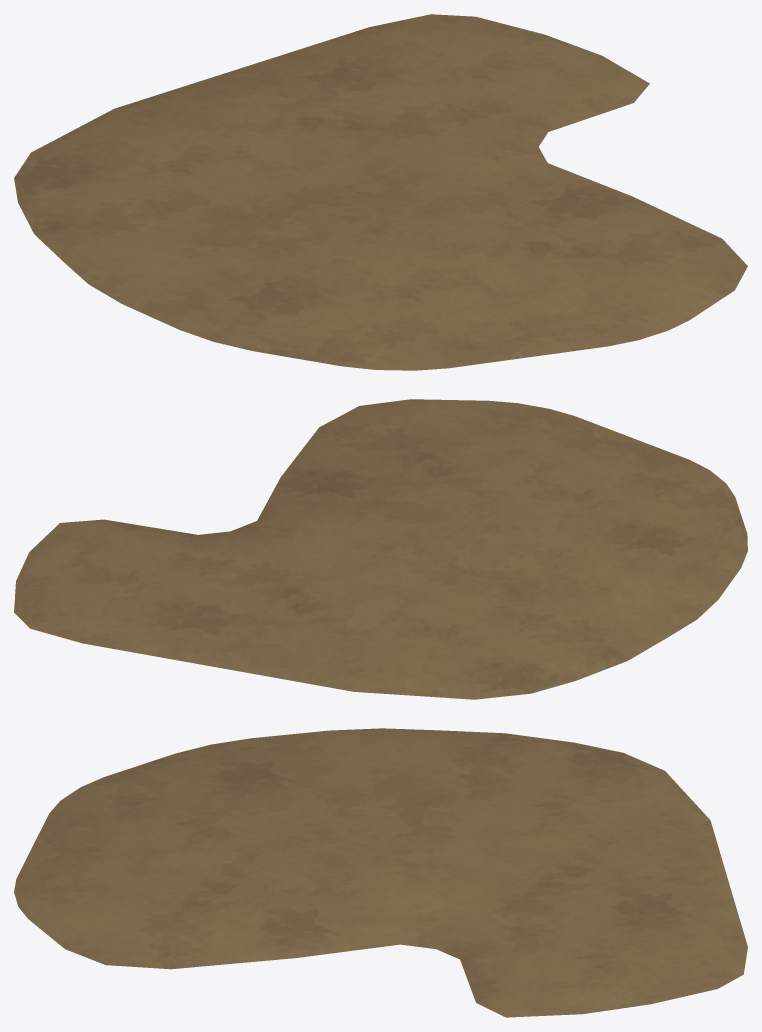
Rendered from Puddle.fbx.
3 renders of one model, top to bottom at view 1: azimuth 30°, elevation 25°; view 2: azimuth 150°, elevation 25°; view 3: azimuth 270°, elevation 25°, orthographic. The views are drawn at different scales.
Parts seen in each view (by area): view 1: Puddle; view 2: Puddle; view 3: Puddle.
Boxes of the visible parts, x1,y1,x2,y2 form: Puddle: (14, 14, 747, 370); Puddle: (14, 399, 747, 699); Puddle: (14, 728, 747, 1017).
Size of the model in its own units: 27.41 by 0.6753 by 29.4.
